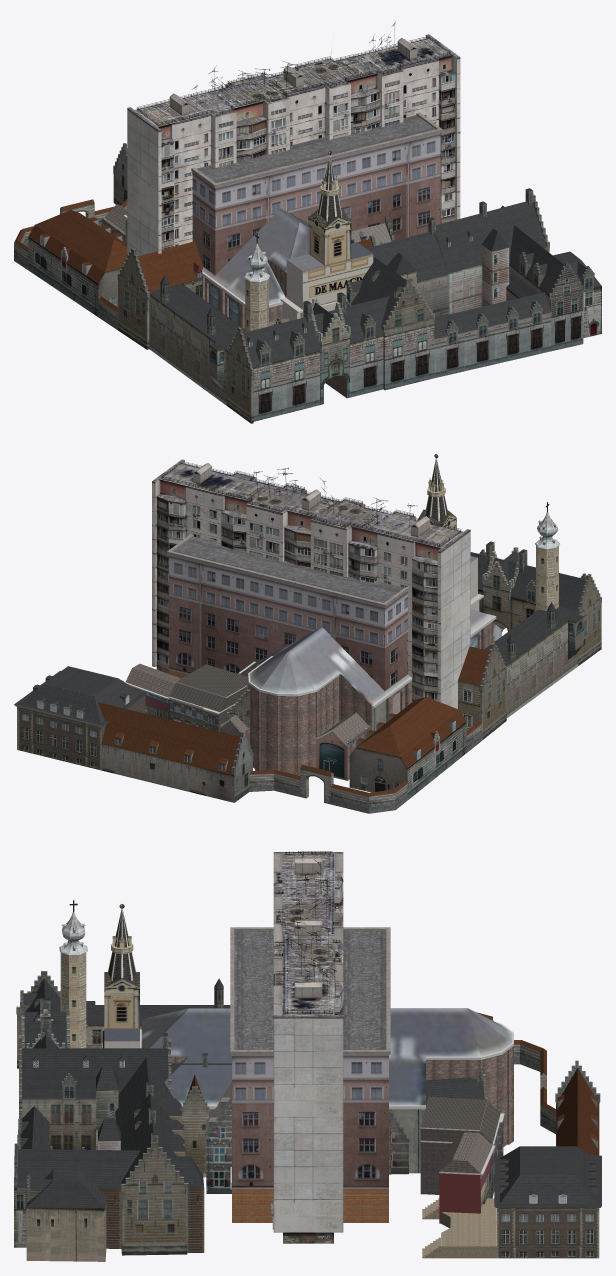
File: scenery-eu.glb
The picture shows the model from 3 angles, top to bottom: view 1: azimuth 30°, elevation 25°; view 2: azimuth 150°, elevation 25°; view 3: azimuth 270°, elevation 25°; orthographic projection. The views are drawn at different scales.
Parts seen in each view (by area): view 1: nlhouse_2, panel_0, block_8, nlhouse_0, nlhouse_1; view 2: nlhouse_2, panel_0, nlhouse_0, block_8; view 3: nlhouse_2, nlhouse_0, panel_0, block_8, nlhouse_1.
Boxes of the visible parts, <box> form: nlhouse_2: <box>14,143,601,423</box>; panel_0: <box>127,22,460,255</box>; block_8: <box>191,112,442,275</box>; nlhouse_0: <box>101,150,373,329</box>; nlhouse_1: <box>351,216,394,245</box>; nlhouse_2: <box>14,502,601,813</box>; panel_0: <box>152,459,470,708</box>; nlhouse_0: <box>125,454,502,780</box>; block_8: <box>167,534,409,690</box>; nlhouse_2: <box>14,900,601,1261</box>; nlhouse_0: <box>102,904,513,1223</box>; panel_0: <box>271,851,343,1243</box>; block_8: <box>230,927,390,1222</box>; nlhouse_1: <box>206,1082,409,1193</box>.
Bounding box in the file's own units: 65.74 × 40.09 × 81.46.
137 materials, 135 textured.
